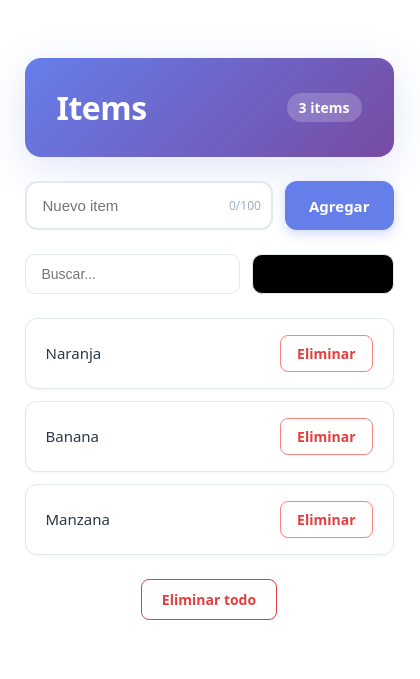
Test: Componente App › Flujos Exitosos (Happy Paths) › debería agregar un item correctamente y actualizar la lista
The width and height of the screenshot is (420, 679).
Expected: the text "Manzana" is shown, [46,508,110,531]
Type "Uva" into the field with placeholder "Nuevo item".
click(149, 206); type("Uva")  # box [24,181,273,230]
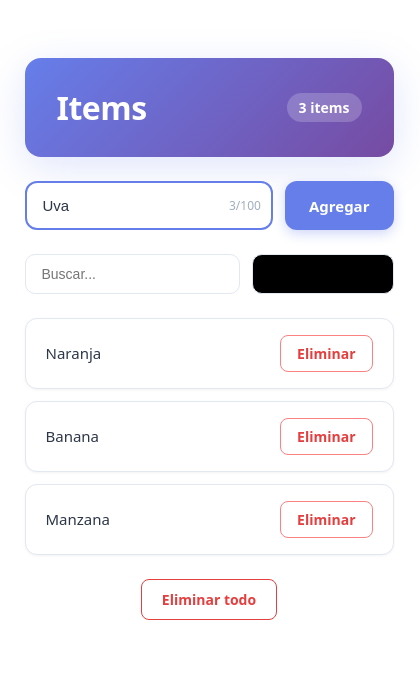
Click the button "Agregar".
click(339, 206)  # box [285,181,394,230]
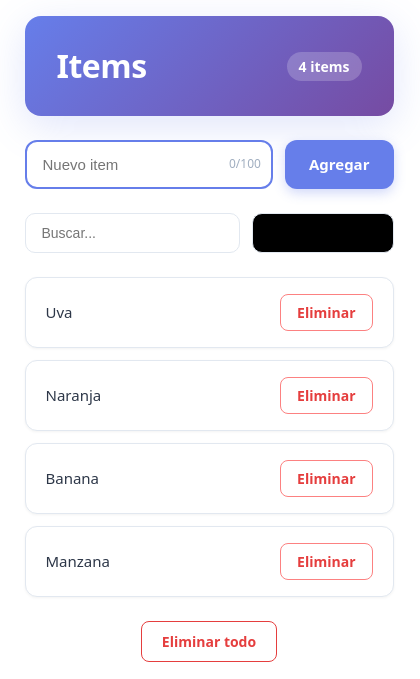
Expected: the field with placeholder "Nuevo item" is empty, [24,140,273,189]
Expected: the text "Uva" is shown, [46,301,72,323]
Expected: the text "4 items" is shown, [286,52,362,80]
